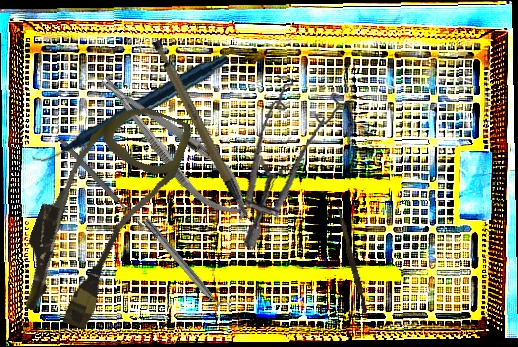Cannula: (5, 85, 195, 341)
Fixation Ring: (138, 212, 232, 320)
Handpiece: (31, 33, 229, 183)
Needle Holder: (87, 60, 263, 233)
Pusher: (332, 206, 371, 314)
Scalpel Handle: (149, 30, 250, 229)
Speculum: (226, 68, 359, 250)
Surgical Spoon: (58, 137, 145, 230)
